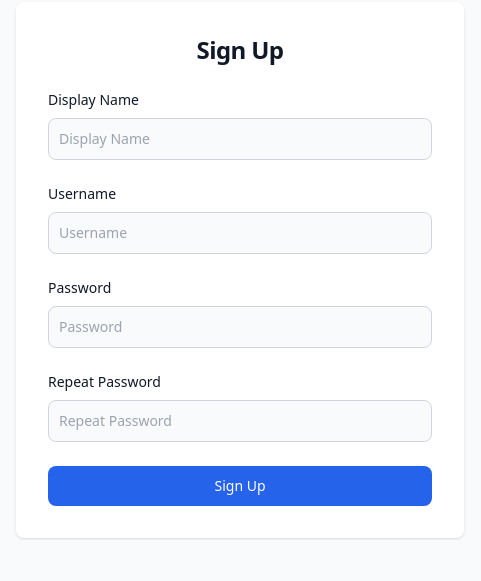
Test case: UserSignupPage › Interactions › hides the validation error when user changes the content of displayName
The width and height of the screenshot is (481, 581).
In the field with placeholder "Display Name": (240, 139) [48, 118, 432, 160], type "my-display-name"
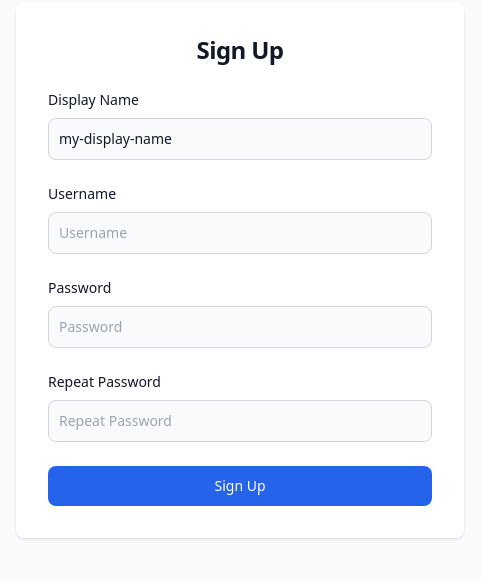
In the field with placeholder "Username": (240, 233) [48, 212, 432, 254], type "my-user-name"
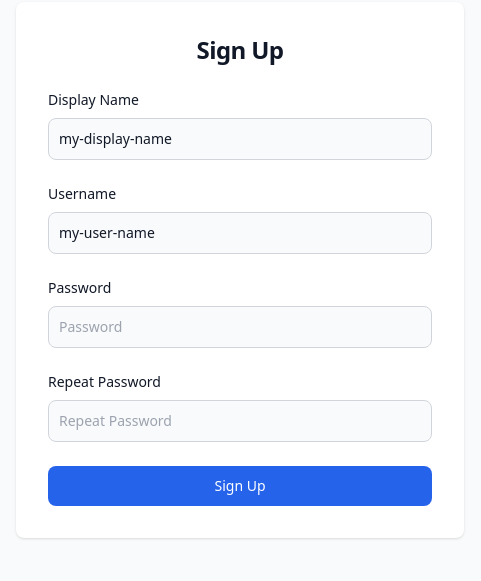
In the password field with placeholder "Password": (240, 327) [48, 306, 432, 348], type "P4ssword"
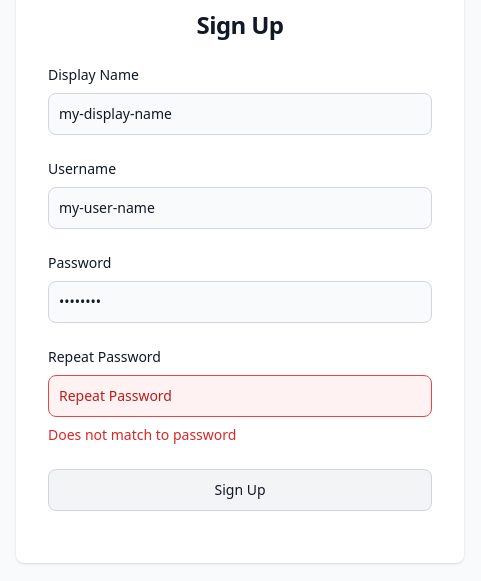
In the password field with placeholder "Repeat Password": (240, 396) [48, 375, 432, 417], type "P4ssword"
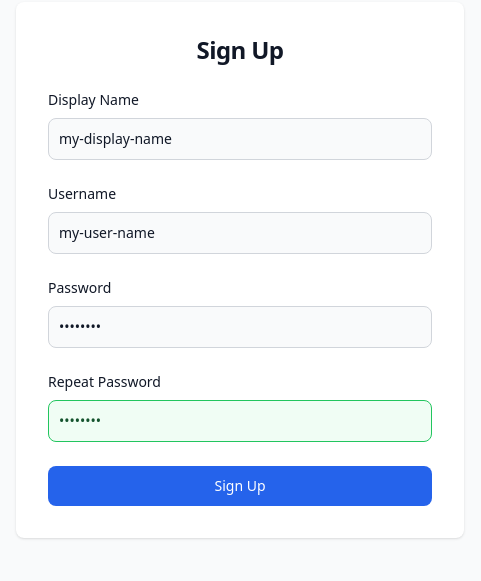
Click the button "Sign Up": (240, 486) [48, 466, 432, 506]
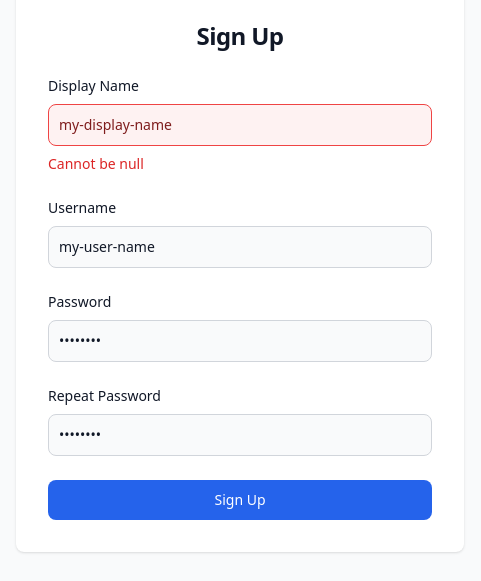
Now the text "Cannot be null" is shown, box [48, 154, 144, 173]
Replace the text in the field with placeholder "Display Name" below "Display Name" with "name updated": (240, 125) [48, 104, 432, 146]
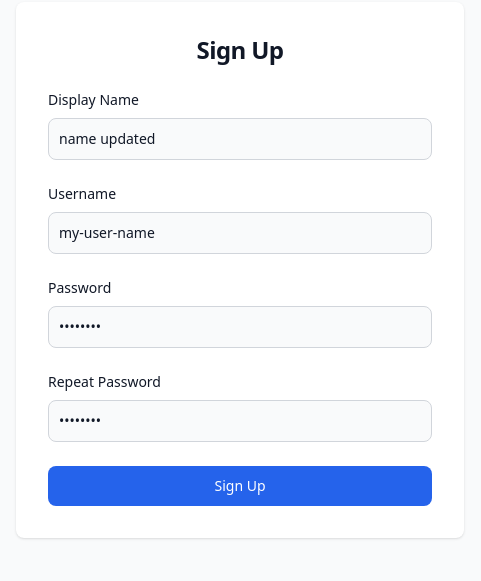
Now the text "Cannot be null" is gone
